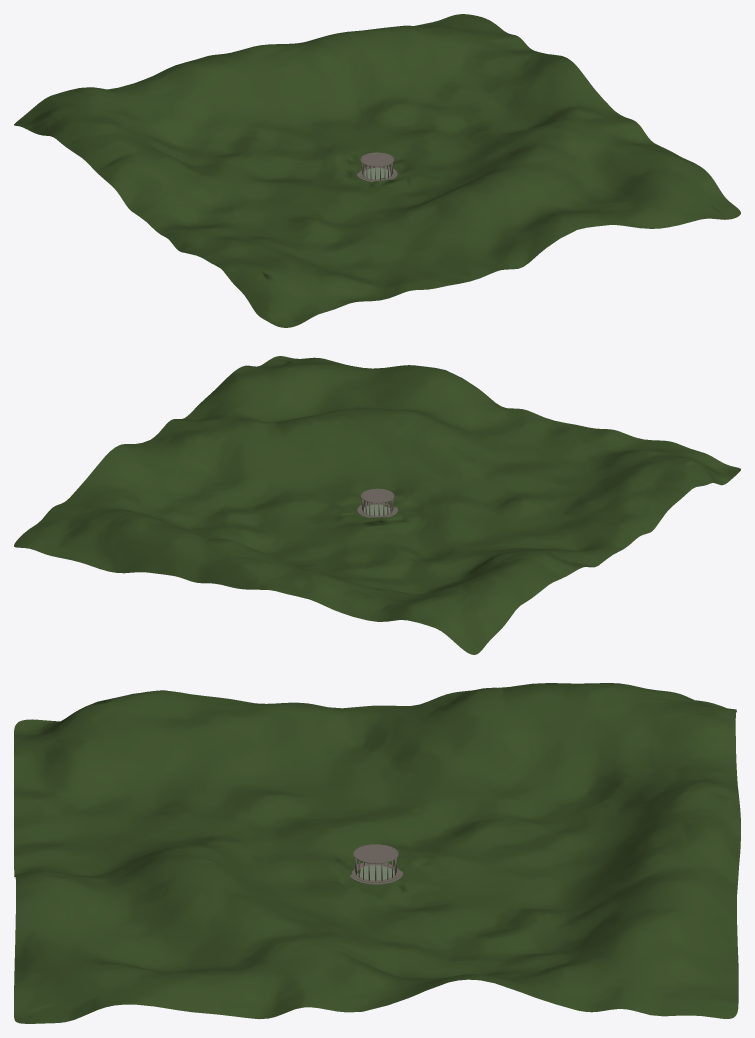
The model's file is vr-village.glb.
3 renders of one model, top to bottom at view 1: azimuth 30°, elevation 25°; view 2: azimuth 150°, elevation 25°; view 3: azimuth 270°, elevation 25°, orthographic. The views are drawn at different scales.
Parts seen in each view (by area): view 1: Terrain, Altana; view 2: Terrain, Altana; view 3: Terrain, Altana.
Part boxes in pixels (bbox=[...]): Terrain: bbox=[14, 14, 740, 327]; Altana: bbox=[357, 152, 397, 181]; Terrain: bbox=[14, 356, 740, 654]; Altana: bbox=[357, 488, 397, 517]; Terrain: bbox=[14, 683, 740, 1023]; Altana: bbox=[350, 844, 403, 884].
Bounding box in the file's own units: 96.79 × 8.75 × 96.41.
